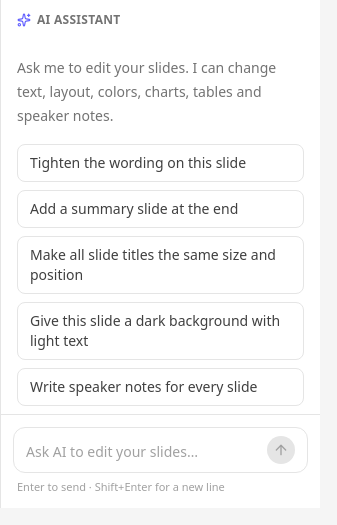
ChatPanel › sends a suggestion and shows the reply with the applied changes
This screenshot has width=337, height=525.
Click the button "Add a summary slide at the end": (160, 209) [17,190,304,228]
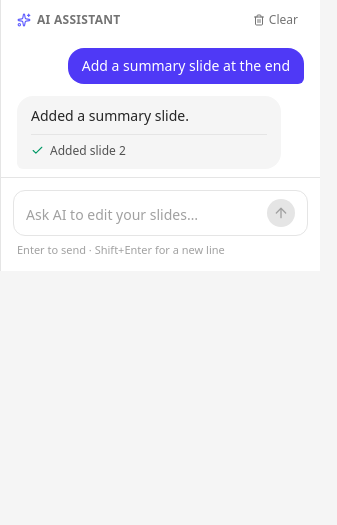
Now the text "Added a summary slide." is shown, box [31,106,189,125]
Now the list named "Changes" reads "Added slide 2", box [50,142,126,159]
Now the button "Tighten the wording on this slide" is gone
